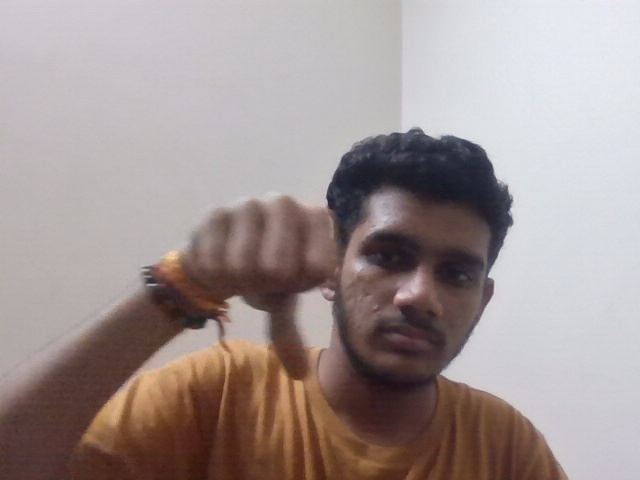yes: (173, 192, 346, 384)
